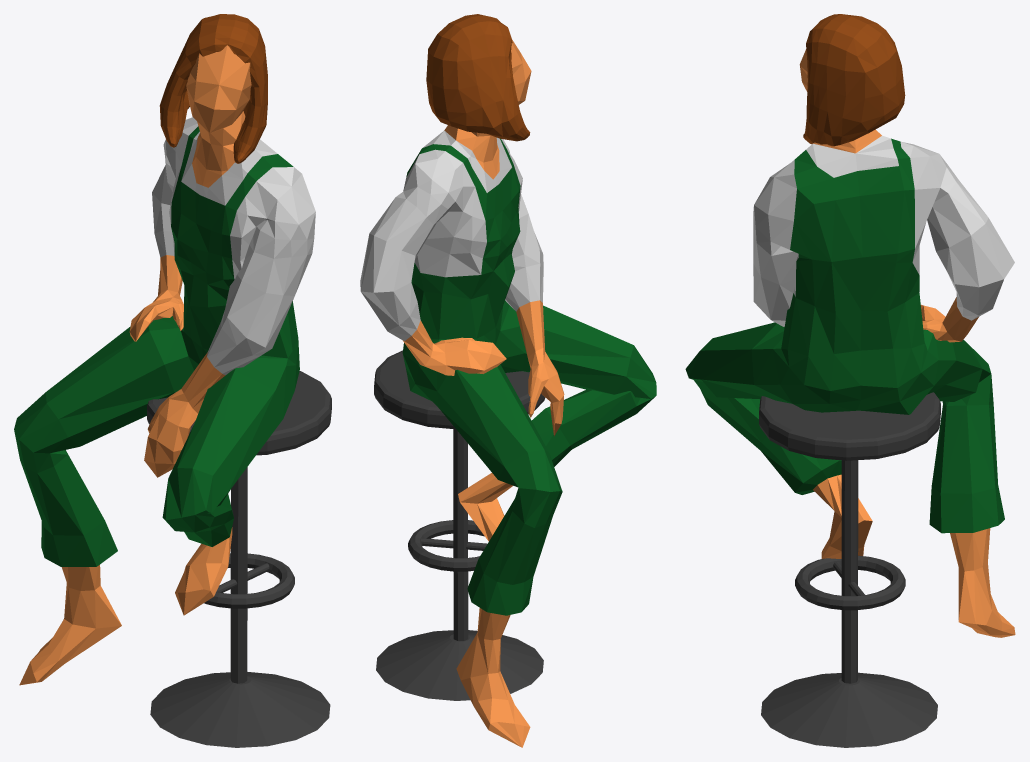
File: girl_sit.obj
The picture shows the model from 3 angles, left to right: view 1: azimuth 30°, elevation 25°; view 2: azimuth 150°, elevation 25°; view 3: azimuth 270°, elevation 25°; orthographic projection. The views are drawn at different scales.
Visible parts, largest first — view 1: GirlSit_00, GirlSit_02, GirlSit_Chair, GirlSit_03, GirlSit_01; view 2: GirlSit_00, GirlSit_03, GirlSit_Chair, GirlSit_02, GirlSit_01; view 3: GirlSit_00, GirlSit_Chair, GirlSit_03, GirlSit_01, GirlSit_02.
Part boxes in pixels (bbox=[...]): GirlSit_00: bbox=[14, 126, 299, 566]; GirlSit_02: bbox=[19, 45, 251, 685]; GirlSit_Chair: bbox=[147, 371, 331, 747]; GirlSit_03: bbox=[152, 117, 315, 375]; GirlSit_01: bbox=[159, 14, 267, 163]; GirlSit_00: bbox=[402, 138, 656, 615]; GirlSit_03: bbox=[360, 130, 543, 341]; GirlSit_Chair: bbox=[374, 350, 545, 700]; GirlSit_02: bbox=[403, 39, 564, 747]; GirlSit_01: bbox=[426, 14, 530, 141]; GirlSit_00: bbox=[685, 138, 1004, 533]; GirlSit_Chair: bbox=[759, 392, 940, 747]; GirlSit_03: bbox=[753, 135, 1014, 326]; GirlSit_01: bbox=[803, 14, 905, 146]; GirlSit_02: bbox=[799, 49, 1015, 637].
Bounding box in the file's own units: 2.14 × 5.81 × 2.54.
